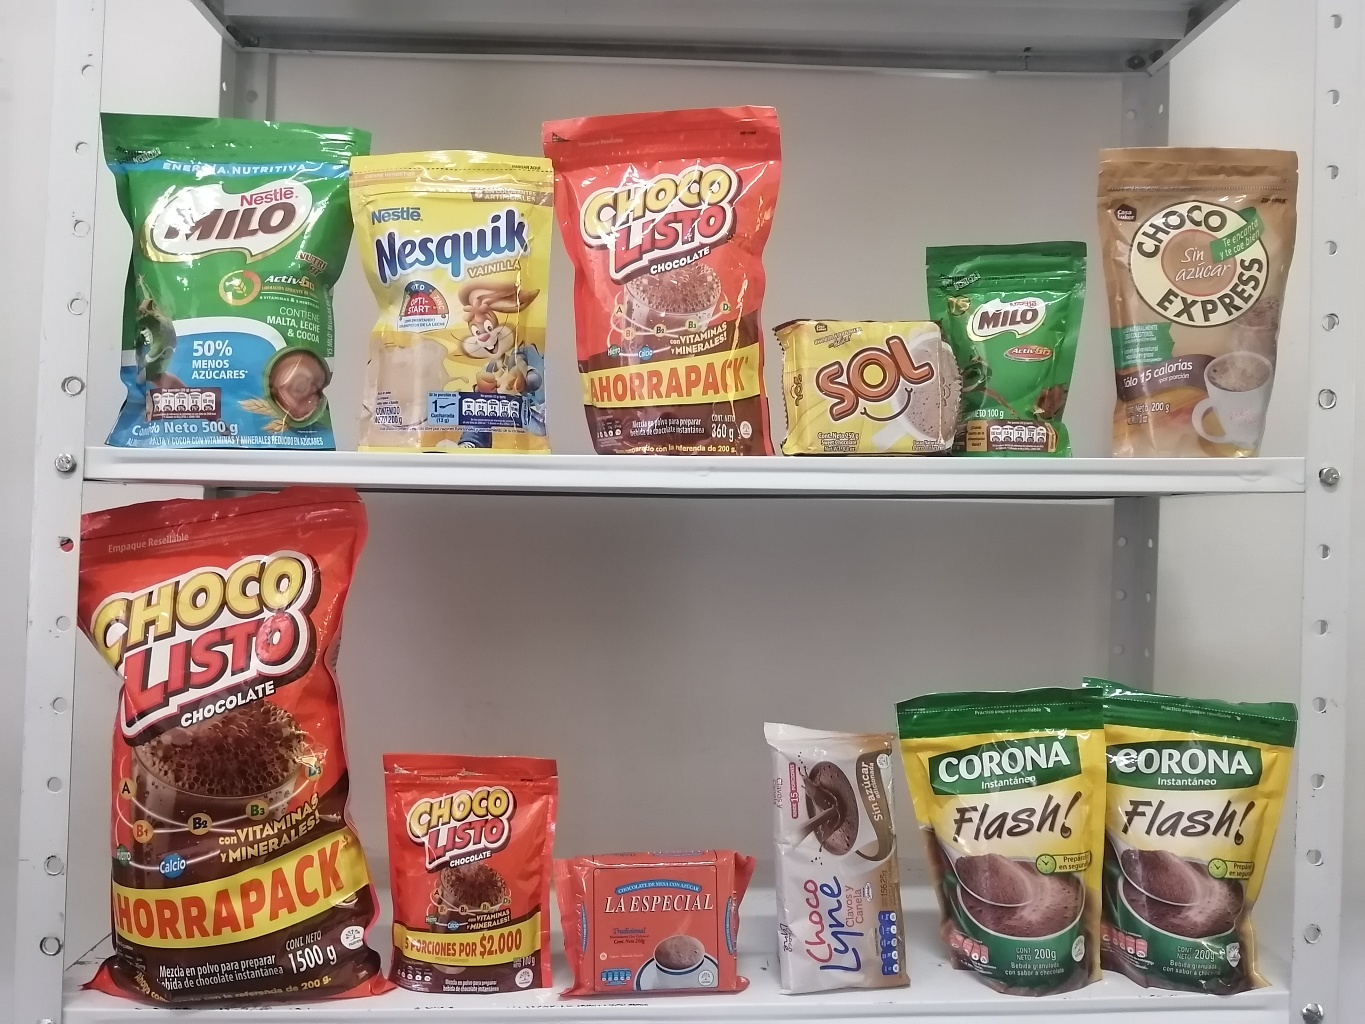COL0170103DYP1,500: (41, 473, 407, 1019)
COL0170103DYP36000: (531, 87, 804, 467)
COL0170203DYP10000: (918, 215, 1097, 463)
COL0170205DYP50000: (75, 87, 359, 459)
COL0170306DYP20000: (342, 132, 558, 466)
